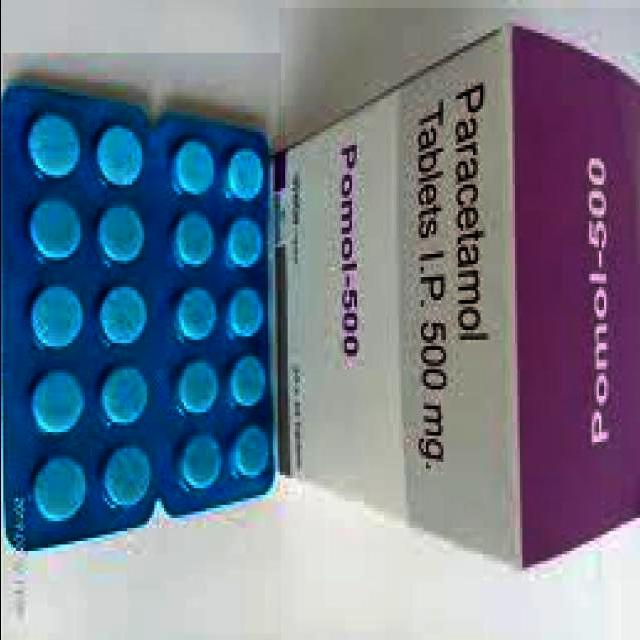authentic: (278, 8, 640, 640), (2, 53, 280, 640)
